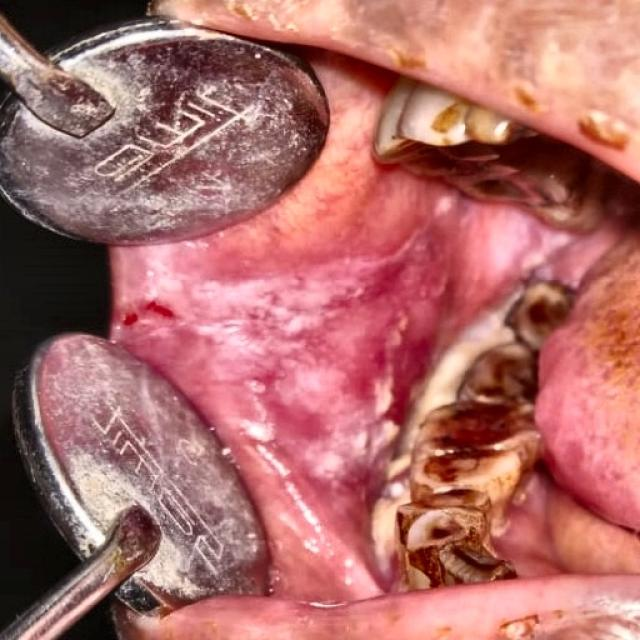leukoplakia-detection: (120, 193, 582, 598)
processing_area: (114, 70, 639, 609)
